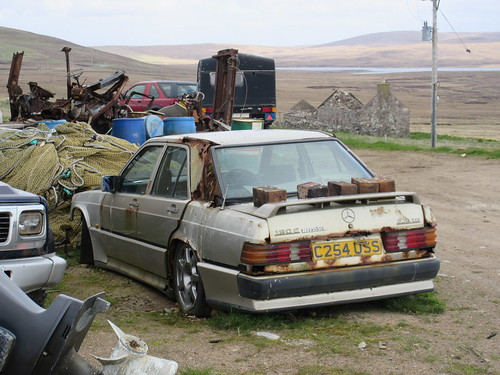car: (77, 130, 439, 299), (127, 75, 193, 113)
power pole: (412, 3, 455, 155)
sky: (5, 1, 494, 42)
trash: (1, 54, 129, 195)
